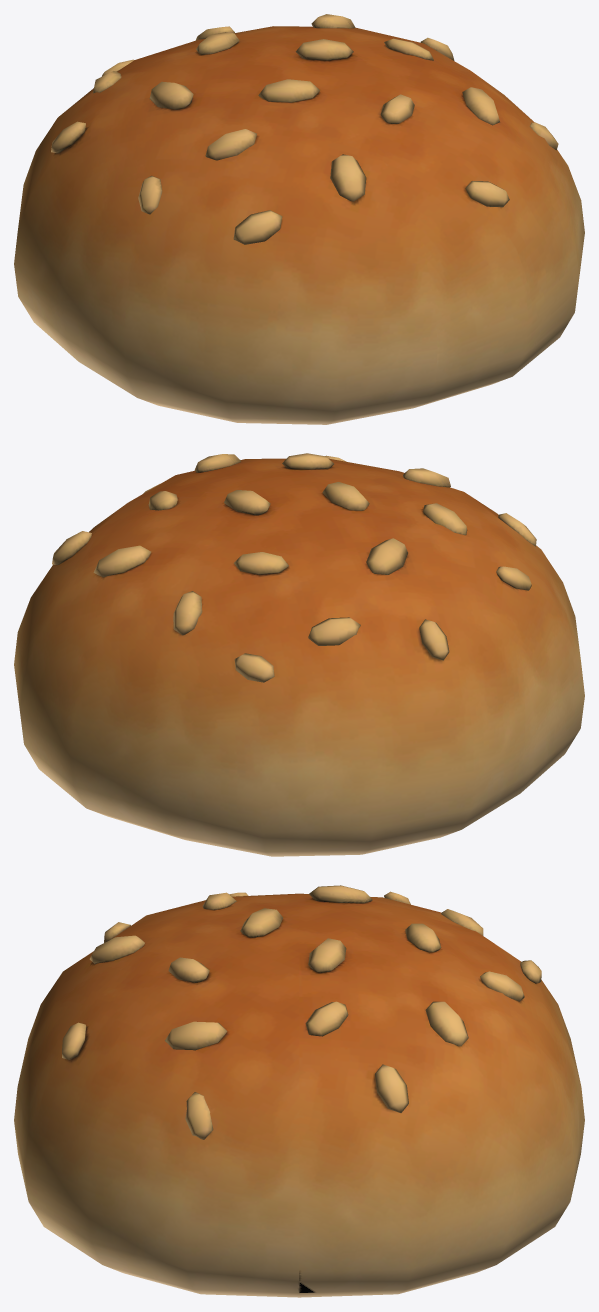
The model's file is t_ingredients_bun_01_d.fbx.
The picture shows the model from 3 angles, top to bottom: view 1: azimuth 30°, elevation 25°; view 2: azimuth 150°, elevation 25°; view 3: azimuth 270°, elevation 25°; orthographic projection. The views are drawn at different scales.
Parts seen in each view (by area): view 1: m_ingredients_bun_01; view 2: m_ingredients_bun_01; view 3: m_ingredients_bun_01.
Part boxes in pixels (bbox=[...]): m_ingredients_bun_01: bbox=[14, 14, 584, 424]; m_ingredients_bun_01: bbox=[14, 453, 584, 856]; m_ingredients_bun_01: bbox=[14, 885, 584, 1297].
Size of the model in its own units: 61.68 by 32.78 by 62.33.
